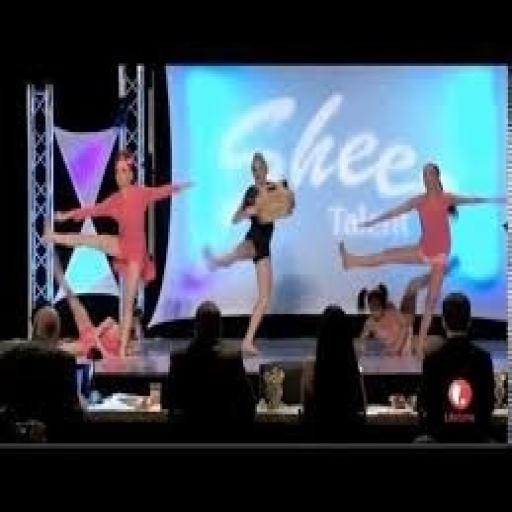dancing: (334, 158, 510, 362), (40, 145, 196, 362), (202, 148, 300, 359)
